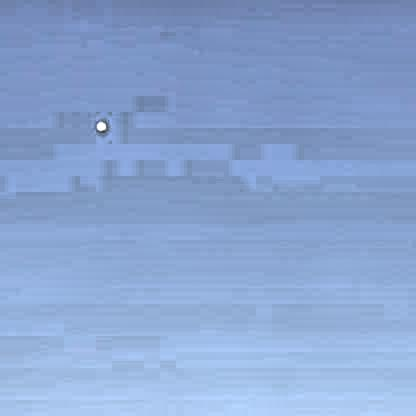golfball: (92, 117, 106, 131)
